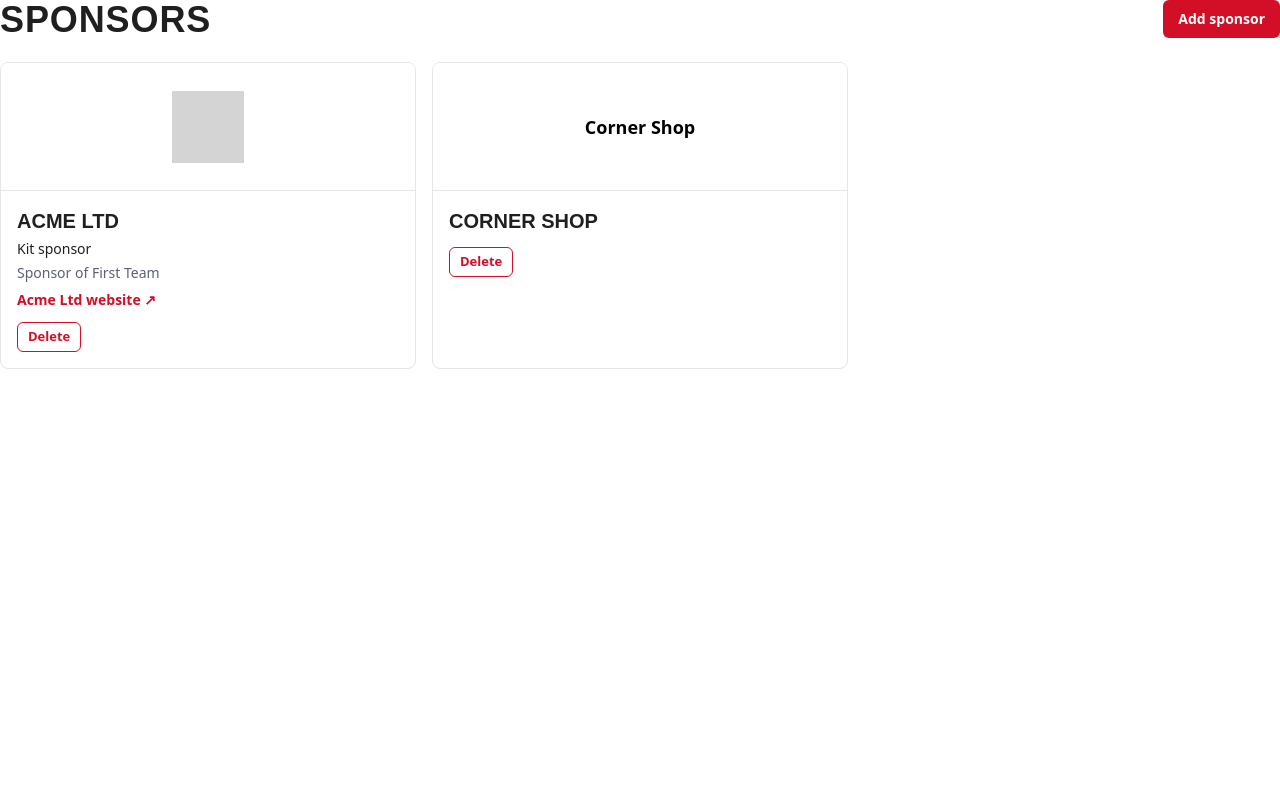
Sponsors editing › deletes a sponsor after confirming
Click the button "Delete" below "website ↗" at (49, 337), box [17, 322, 81, 352]
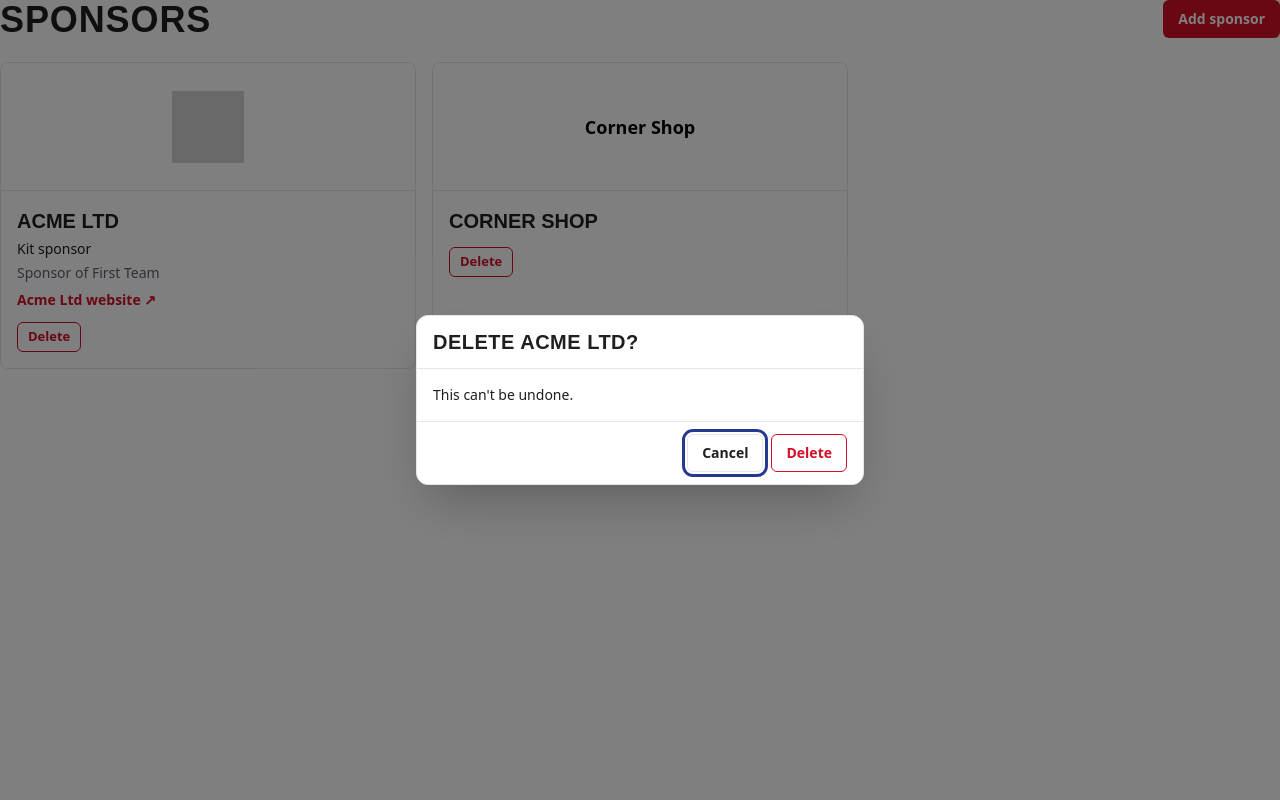
Click the button "Delete" below "This can't be undone." at (809, 453), box [772, 434, 847, 472]
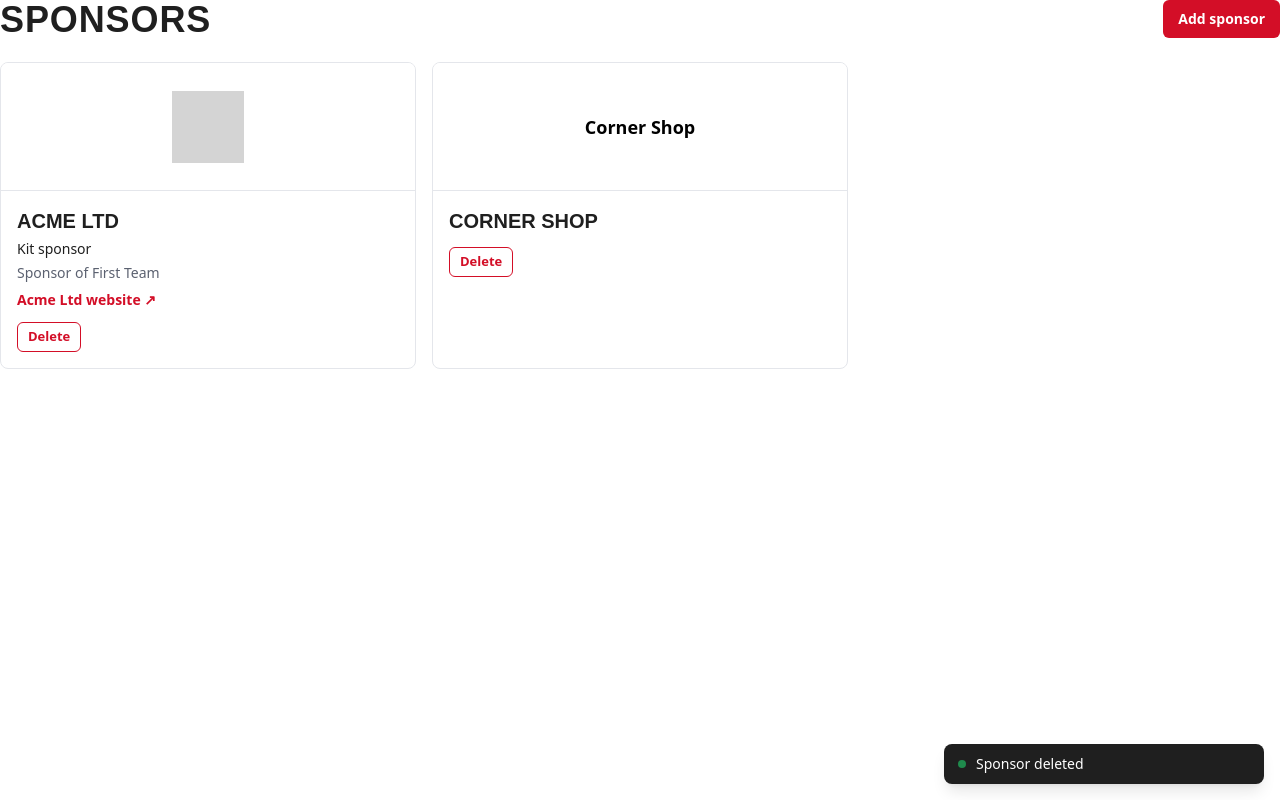
Now the button "Sponsor deleted" is shown, box [944, 744, 1264, 784]
